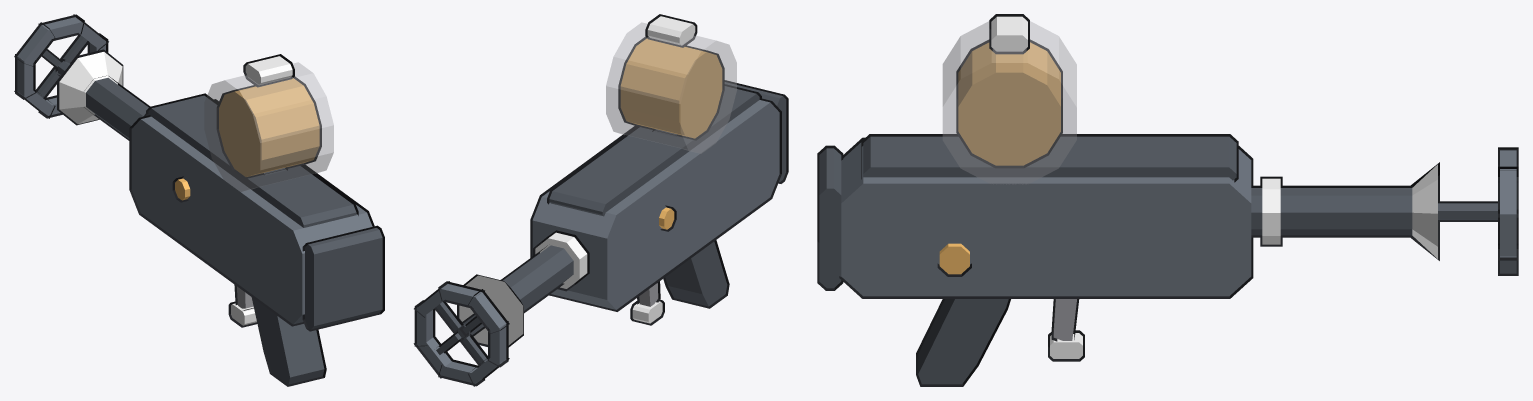
The model's file is BUBBLE.gltf.
3 renders of one model, left to right at view 1: azimuth 30°, elevation 25°; view 2: azimuth 150°, elevation 25°; view 3: azimuth 270°, elevation 25°, orthographic. The views are drawn at different scales.
Parts seen in each view (by area): view 1: BUBBLE, anim_lever; view 2: BUBBLE, anim_lever; view 3: BUBBLE, anim_lever.
Part boxes in pixels (x1,y1,x2,y2): BUBBLE: [14, 14, 384, 386]; anim_lever: [228, 284, 257, 327]; BUBBLE: [413, 14, 788, 386]; anim_lever: [630, 281, 664, 325]; BUBBLE: [817, 14, 1518, 386]; anim_lever: [1048, 299, 1084, 361].
Size of the model in its own units: 0.0682 by 0.2122 by 0.3832.
